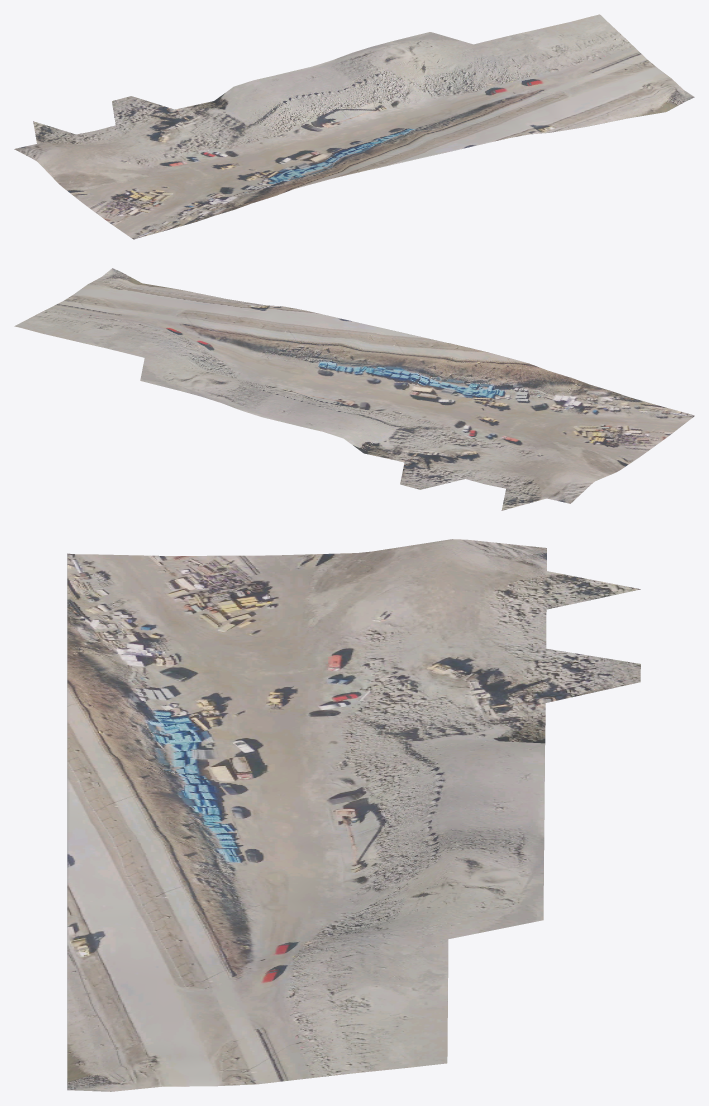
File: CM_Terrain_24487182_6822046.fbx
3 renders of one model, top to bottom at view 1: azimuth 30°, elevation 25°; view 2: azimuth 150°, elevation 25°; view 3: azimuth 270°, elevation 25°, orthographic. The views are drawn at different scales.
Visible parts, largest first — view 1: CM_Terrain_24487182_6822046_LOD0; view 2: CM_Terrain_24487182_6822046_LOD0; view 3: CM_Terrain_24487182_6822046_LOD0.
Boxes of the visible parts, left/top/right/bottom form: CM_Terrain_24487182_6822046_LOD0: left=14, top=14, right=694, bottom=239; CM_Terrain_24487182_6822046_LOD0: left=14, top=268, right=694, bottom=510; CM_Terrain_24487182_6822046_LOD0: left=67, top=539, right=640, bottom=1091.
Size of what is drawn, in the model's own units: 205 by 7.58 by 90.74.
